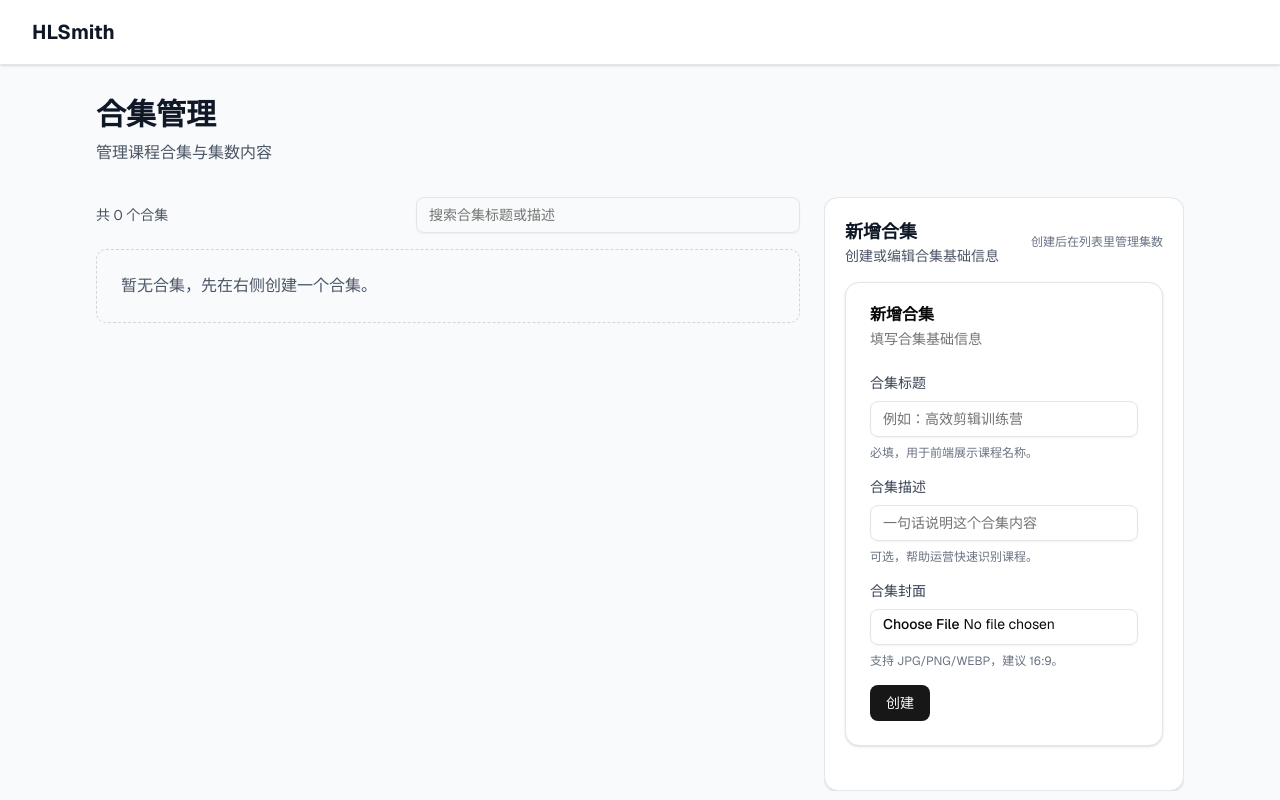
Test: CollectionsPage › shows validation error when title missing
Expected: the text "暂无合集，先在右侧创建一个合集。" is shown, [96,249,800,323]
Click the button "创建": point(900, 703) [870,685,930,721]
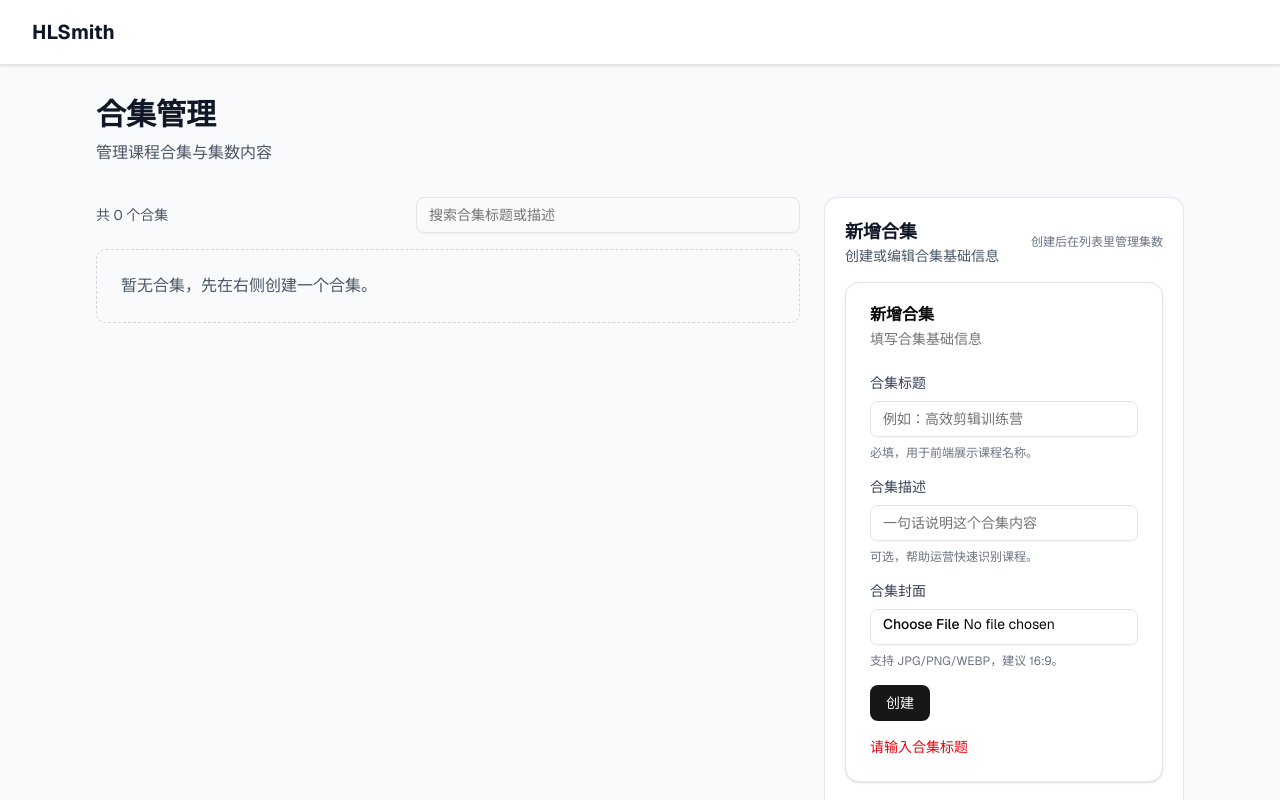
Expected: the text "请输入合集标题" is shown, [870,738,968,756]
